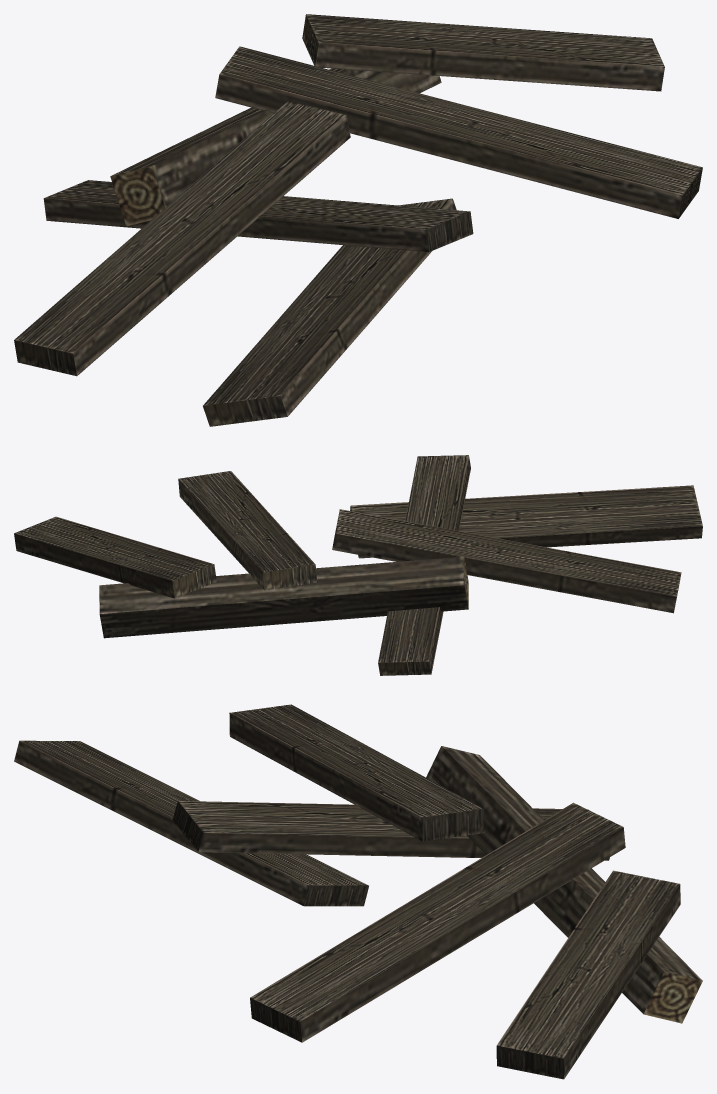
Rendered from Wood07_Parts_LostTemple_001.FBX.
3 renders of one model, top to bottom at view 1: azimuth 30°, elevation 25°; view 2: azimuth 150°, elevation 25°; view 3: azimuth 270°, elevation 25°, orthographic. The views are drawn at different scales.
Parts seen in each view (by area): view 1: Wood07_Parts_LostTemple_001; view 2: Wood07_Parts_LostTemple_001; view 3: Wood07_Parts_LostTemple_001.
Boxes of the visible parts, <box> form: Wood07_Parts_LostTemple_001: <box>14,14,702,426</box>; Wood07_Parts_LostTemple_001: <box>14,455,702,675</box>; Wood07_Parts_LostTemple_001: <box>14,704,702,1079</box>.
Bounding box in the file's own units: 202 × 31.13 × 164.
Materials: 1 (1 with a texture image).
